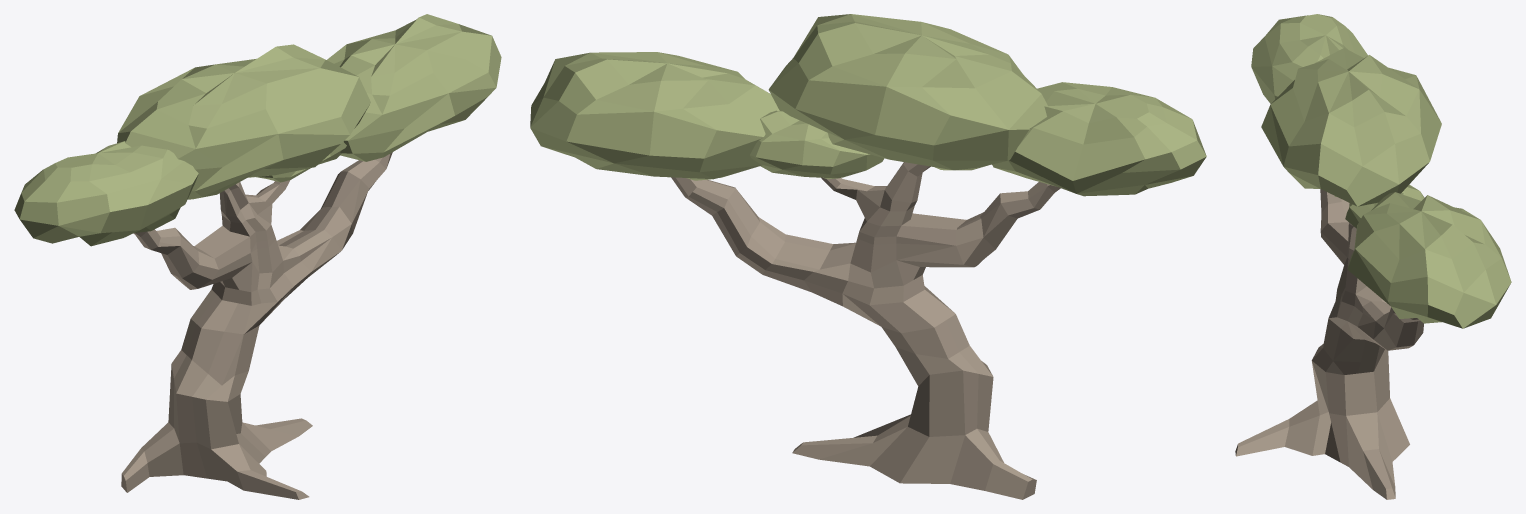
File: ER_Asset_Tree.fbx
3 renders of one model, left to right at view 1: azimuth 30°, elevation 25°; view 2: azimuth 150°, elevation 25°; view 3: azimuth 270°, elevation 25°, orthographic. The views are drawn at different scales.
Parts seen in each view (by area): view 1: pCylinder64; view 2: pCylinder64; view 3: pCylinder64.
Boxes of the visible parts, left/top/right/bottom form: pCylinder64: left=14, top=14, right=501, bottom=499; pCylinder64: left=530, top=14, right=1206, bottom=499; pCylinder64: left=1235, top=14, right=1511, bottom=499.
Bounding box in the file's own units: 11.86 × 8.34 × 5.32.
